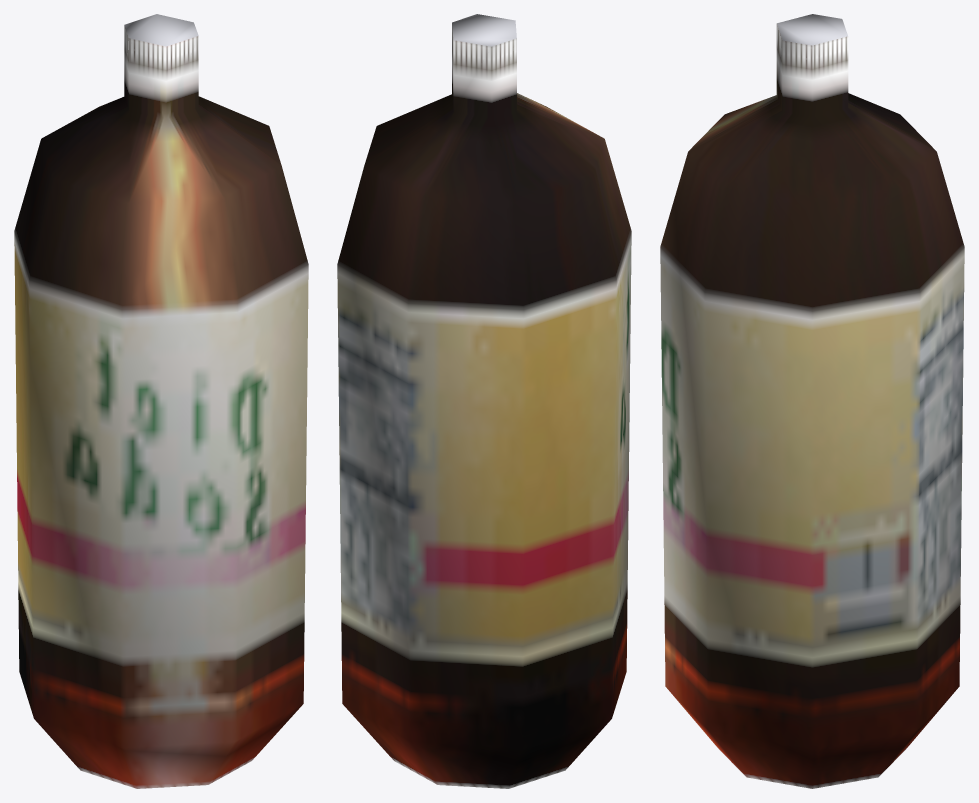
File: 2literbottle.fbx
The picture shows the model from 3 angles, left to right: view 1: azimuth 30°, elevation 25°; view 2: azimuth 150°, elevation 25°; view 3: azimuth 270°, elevation 25°; orthographic projection.
Visible parts, largest first — view 1: mesh_0; view 2: mesh_0; view 3: mesh_0.
Part boxes in pixels (x1=…): mesh_0: x1=14, y1=14, x2=308, y2=788; mesh_0: x1=337, y1=14, x2=631, y2=788; mesh_0: x1=660, y1=14, x2=964, y2=788.
Bounding box in the file's own units: 14.3 × 37.3 × 14.3.
Materials: 1 (1 with a texture image).
